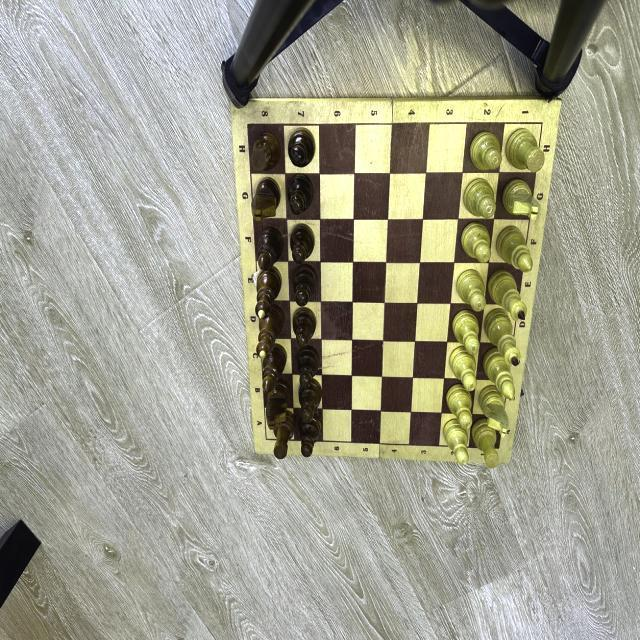chess-table-corners: (262, 434, 270, 444), (539, 118, 546, 128), (245, 120, 250, 129), (496, 445, 502, 452)
